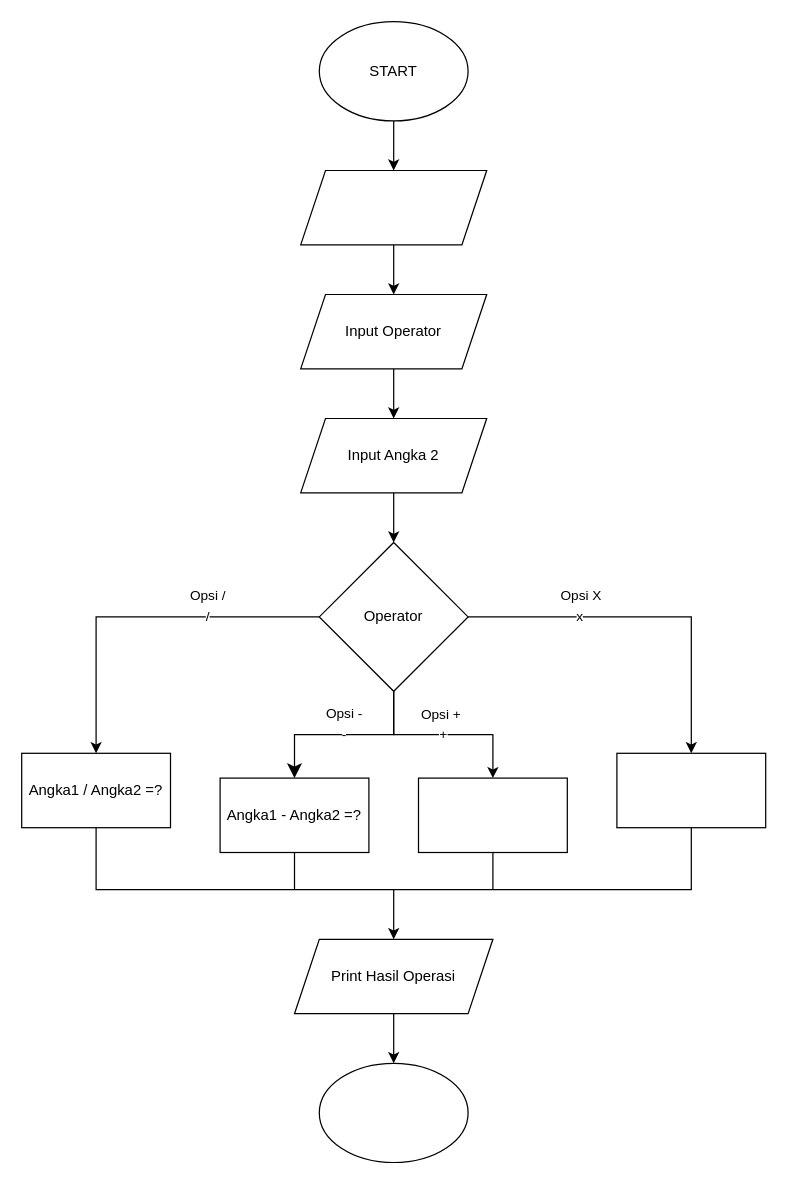
The diagram is 787 pixels wide and 1184 high, and some of its shapes have lost their labels. The shapes that lost their labels are listed below. From the top down, each one's centre as x and y in pixels, then its label:
At point 393,207: "Input Angka 1".
At point 691,790: "Angka1 * Angka2 =?".
At point 492,814: "Angka1 + Angka2 =?".
At point 393,1112: "EXIT".
